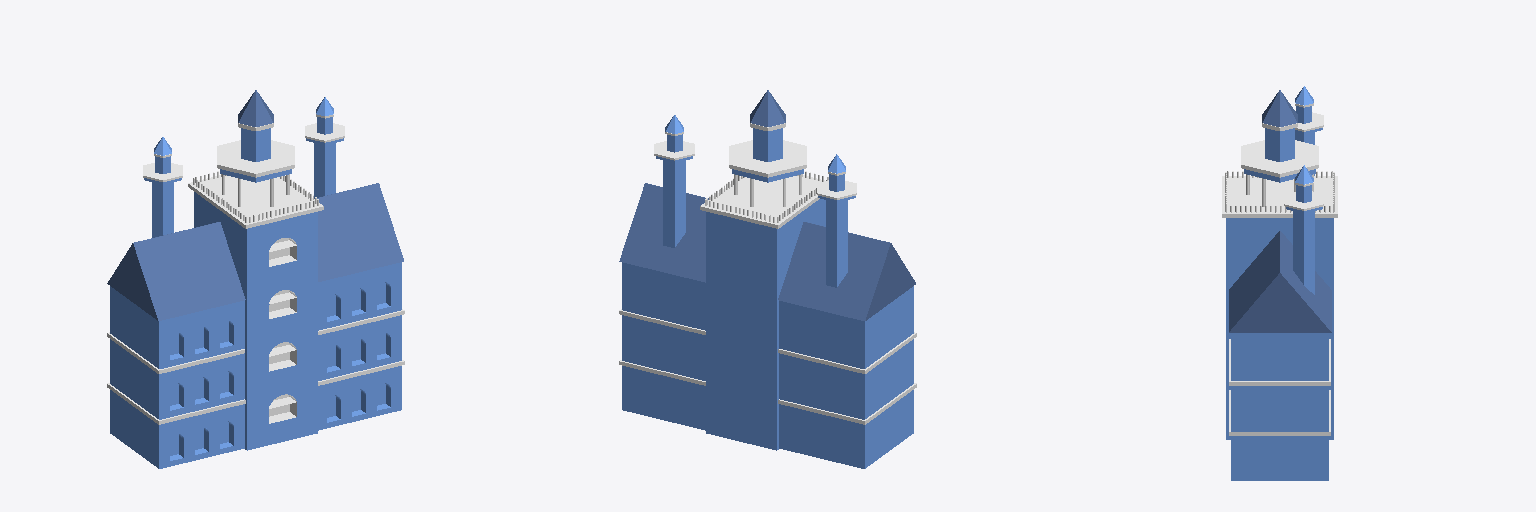
Rendered from 蓝色城堡.obj.
3 views of the same model, side by side, from view 1: azimuth 30°, elevation 25°; view 2: azimuth 150°, elevation 25°; view 3: azimuth 270°, elevation 25° (orthographic).
Parts seen in each view (by area): view 1: 立方体, 立方体.2, 立方体.1, 立方体.3, 封顶_2_15, 挤压_1, 挤压, 立方体.4, 立方体.5, 挤压.2, 挤压.4, 挤压.1_1 (+3 smaller); view 2: 立方体, 立方体.2, 立方体.1, 立方体.3, 挤压, 挤压_1, 封顶_2_15, 立方体.5, 立方体.4, 挤压.2, 挤压.4; view 3: 立方体, 立方体.1, 立方体.2, 立方体.3, 挤压, 封顶_2_15, 挤压.2, 挤压.4, 立方体.5, 立方体.4.
Boxes of the visible parts, x1=… form: 立方体: x1=110, y1=262, x2=401, y2=468; 立方体.2: x1=194, y1=192, x2=317, y2=450; 立方体.1: x1=107, y1=183, x2=403, y2=320; 立方体.3: x1=188, y1=175, x2=323, y2=228; 封顶_2_15: x1=217, y1=140, x2=294, y2=173; 挤压_1: x1=152, y1=182, x2=173, y2=237; 挤压: x1=314, y1=143, x2=335, y2=198; 立方体.4: x1=107, y1=360, x2=404, y2=424; 立方体.5: x1=107, y1=309, x2=404, y2=373; 挤压.2: x1=241, y1=128, x2=270, y2=161; 挤压.4: x1=238, y1=90, x2=273, y2=126; 挤压.1_1: x1=269, y1=342, x2=296, y2=371; 立方体: x1=622, y1=262, x2=913, y2=468; 立方体.2: x1=706, y1=199, x2=825, y2=450; 立方体.1: x1=619, y1=183, x2=915, y2=320; 立方体.3: x1=700, y1=175, x2=824, y2=228; 挤压: x1=663, y1=160, x2=685, y2=247; 挤压_1: x1=826, y1=200, x2=847, y2=287; 封顶_2_15: x1=729, y1=140, x2=806, y2=173; 立方体.5: x1=619, y1=309, x2=916, y2=373; 立方体.4: x1=619, y1=360, x2=916, y2=424; 挤压.2: x1=753, y1=128, x2=782, y2=161; 挤压.4: x1=750, y1=90, x2=785, y2=126; 立方体: x1=1231, y1=333, x2=1328, y2=480; 立方体.1: x1=1229, y1=231, x2=1331, y2=332; 立方体.2: x1=1226, y1=218, x2=1333, y2=439; 立方体.3: x1=1222, y1=176, x2=1337, y2=217; 挤压: x1=1293, y1=211, x2=1314, y2=294; 封顶_2_15: x1=1241, y1=140, x2=1318, y2=173; 挤压.2: x1=1265, y1=128, x2=1294, y2=161; 挤压.4: x1=1262, y1=90, x2=1297, y2=126; 立方体.5: x1=1229, y1=339, x2=1330, y2=385; 立方体.4: x1=1229, y1=390, x2=1330, y2=435.
Size of the model in its own units: 1632 by 2108 by 662.